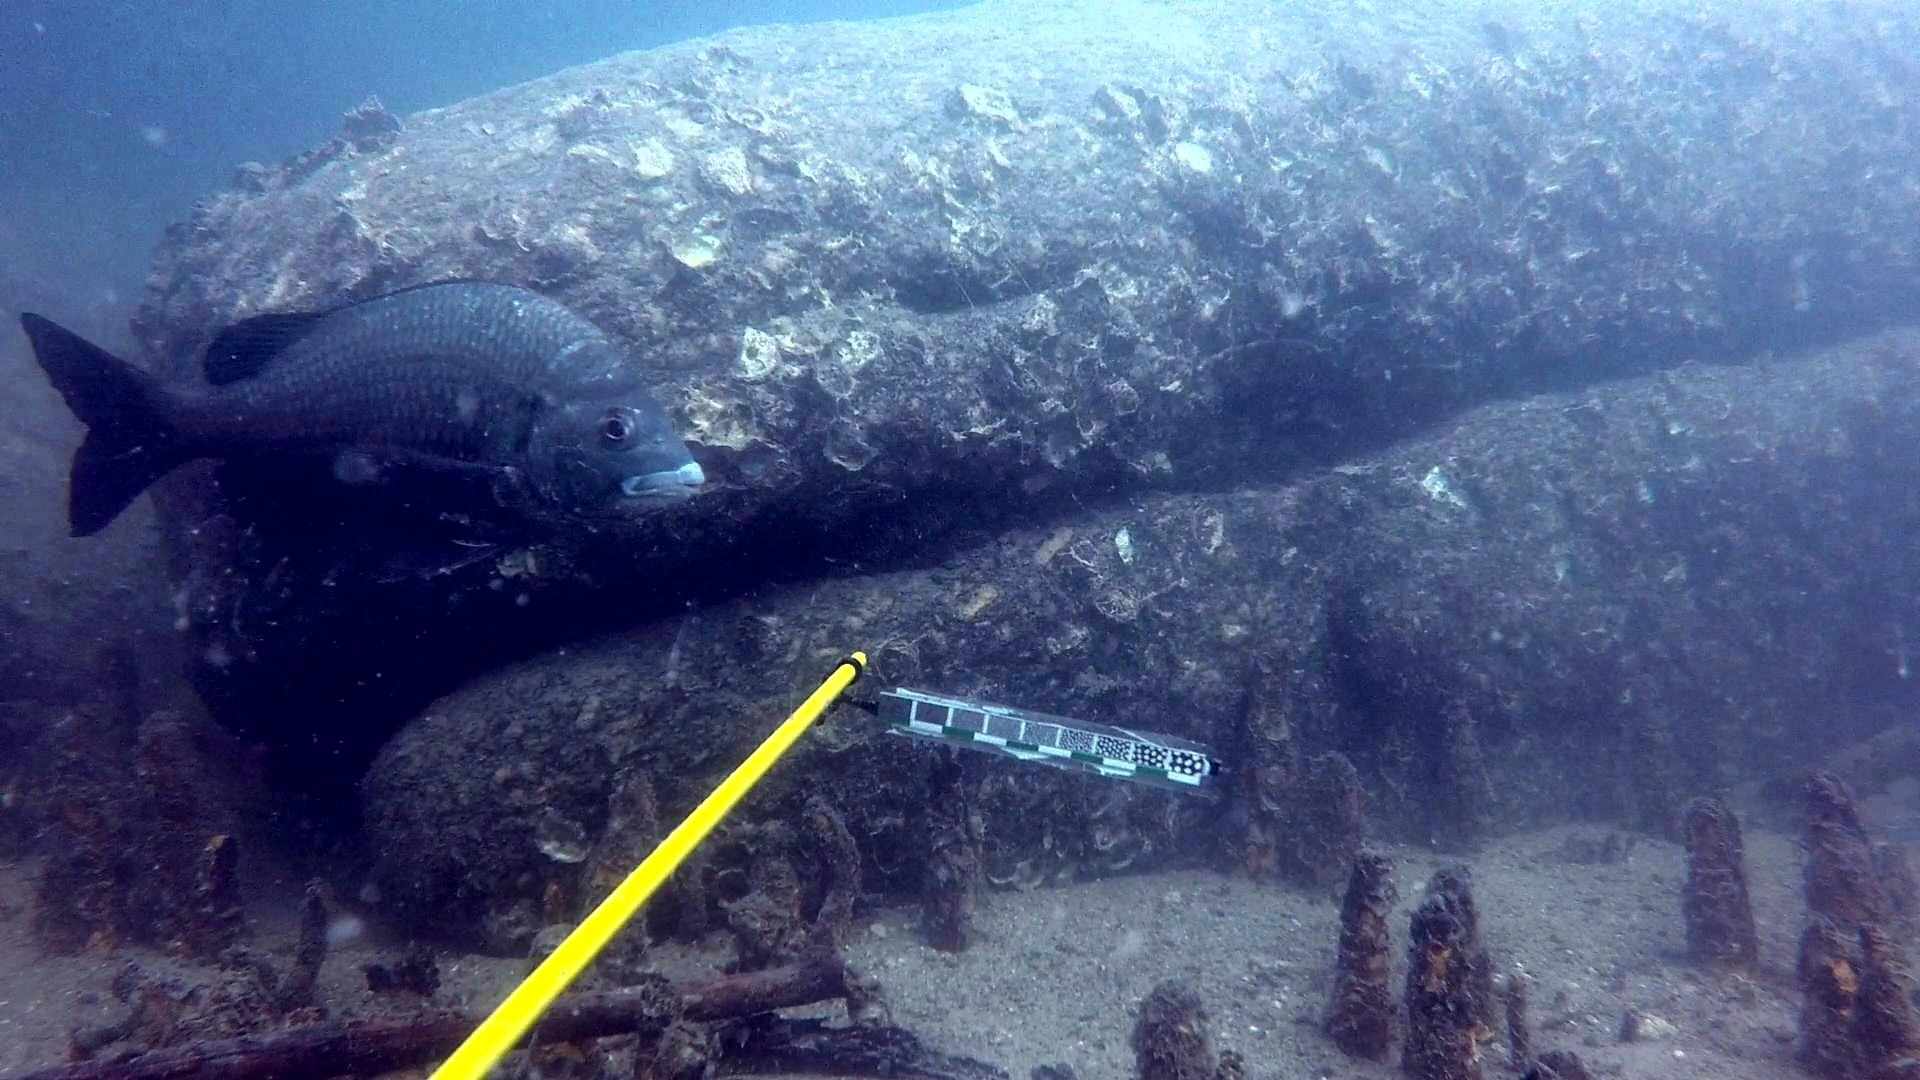acanthopagrus palmaris: (10, 273, 720, 565)
